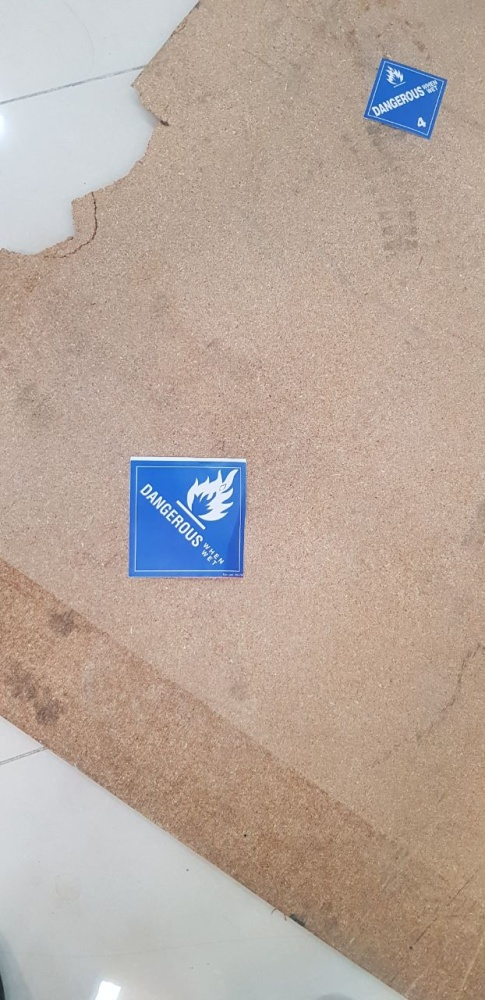Dangerous when wet: (129, 457, 246, 578), (363, 58, 447, 140)
